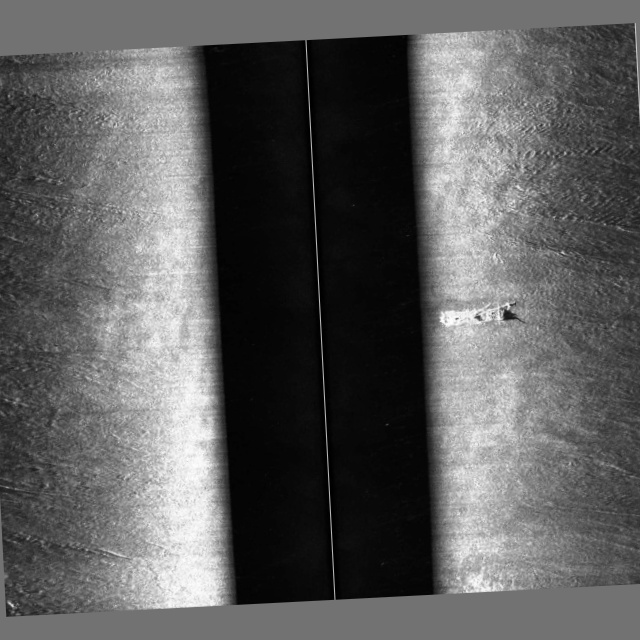Shipwreck: (437, 301, 516, 331)
